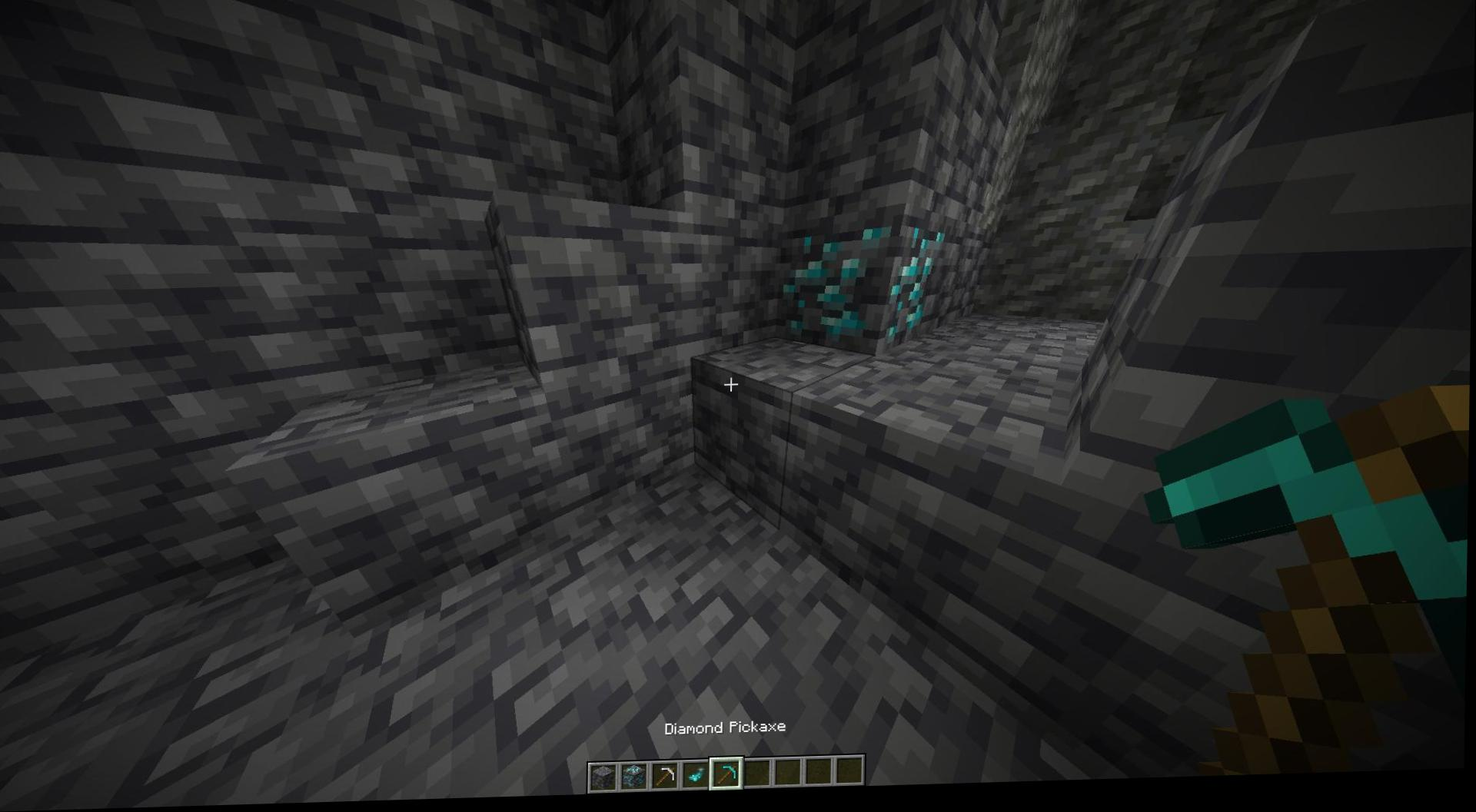diamond ore: (784, 231, 883, 353), (885, 221, 949, 356)
